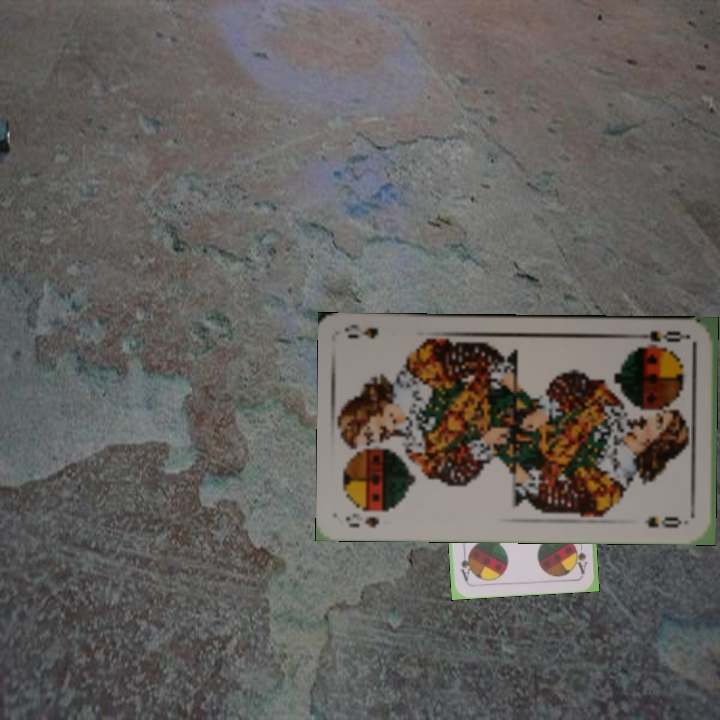SA: (572, 535, 590, 576)
SO: (633, 326, 692, 344), (341, 509, 381, 530)
